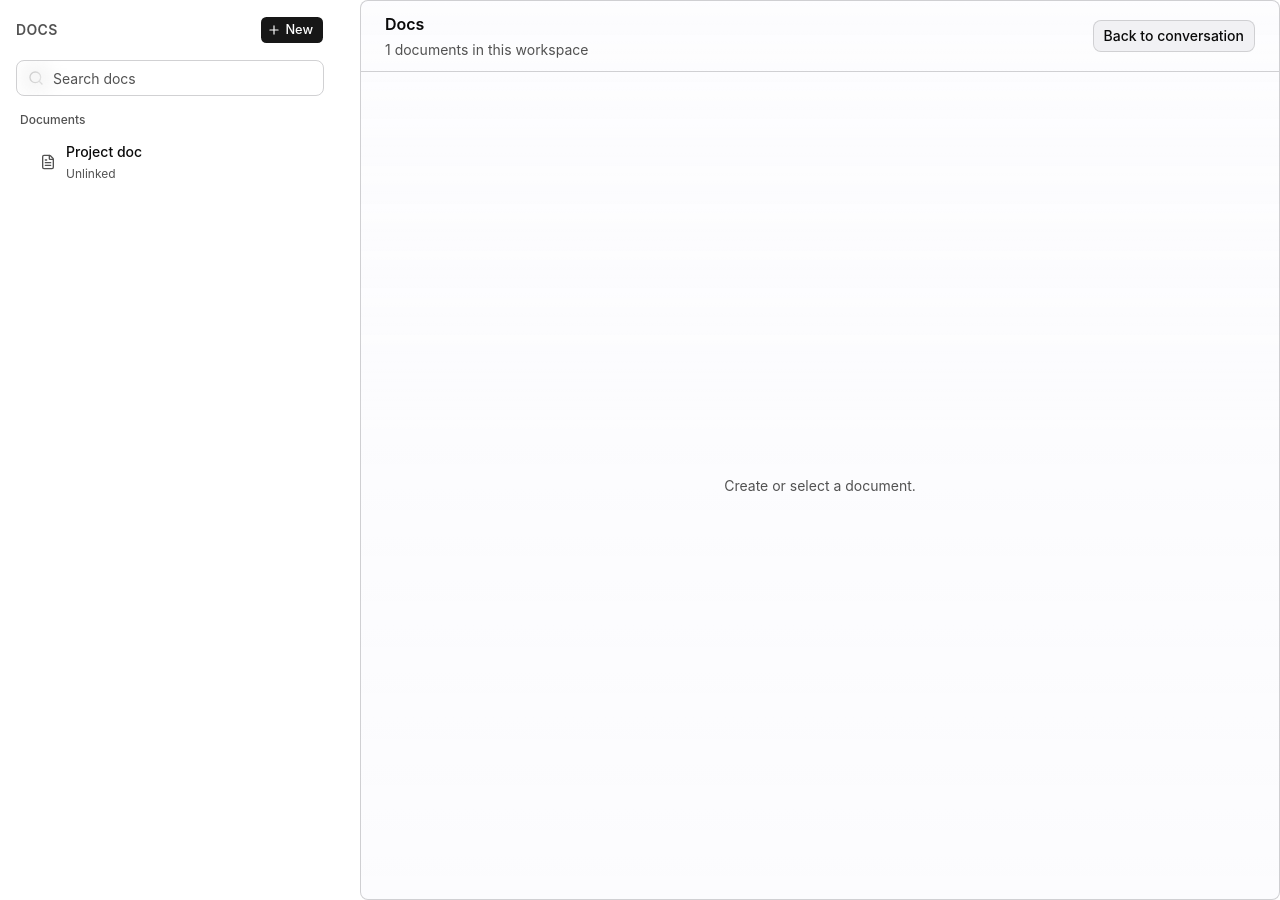
Test: workspace resources UI › autosaves Markdown document drafts after typing pauses
Click the button "Project doc Unlinked": (104, 152) x1=16 y1=134 x2=324 y2=190
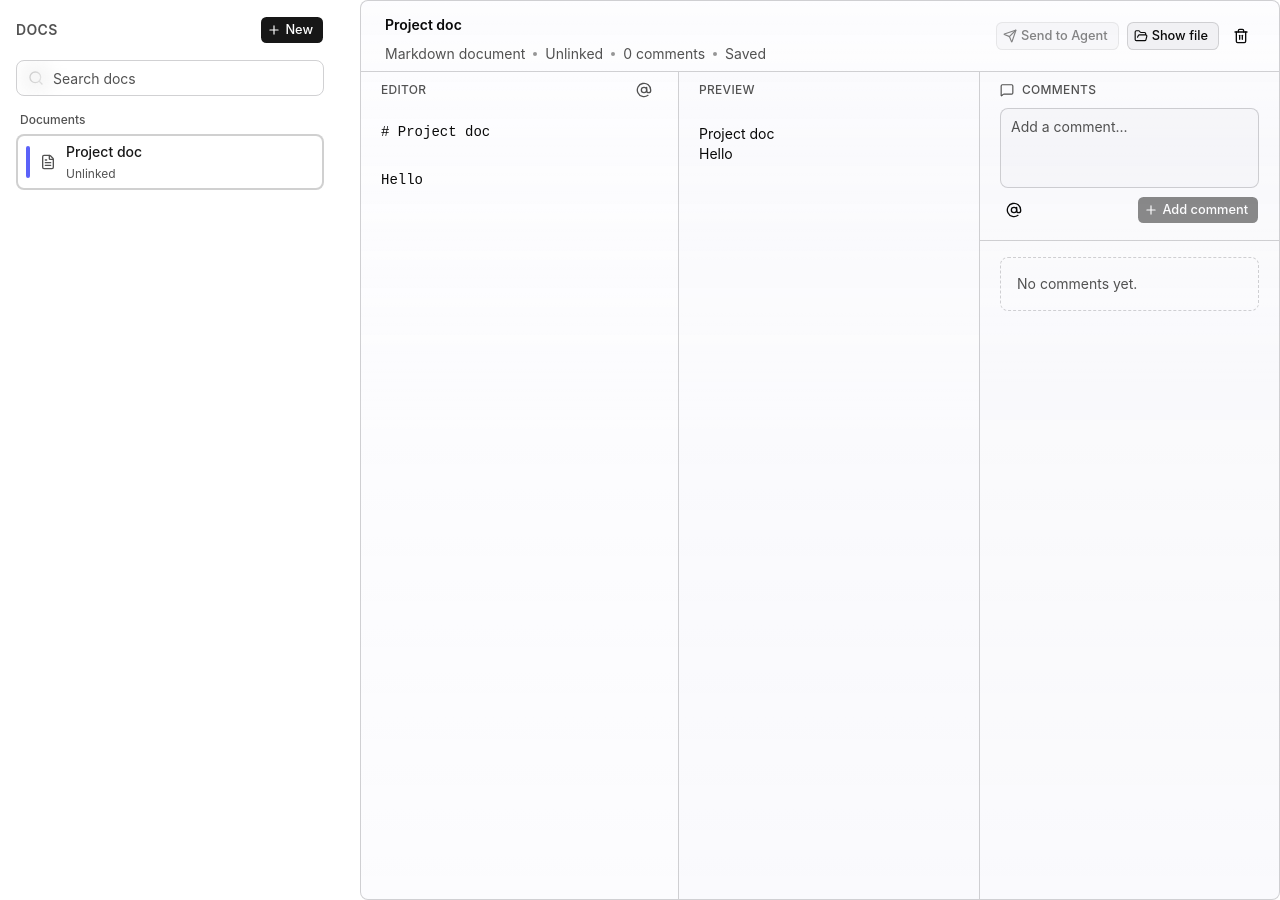
Replace the text in the field named "Document title" with "Autosaved doc": (682, 24) x1=385 y1=8 x2=980 y2=40
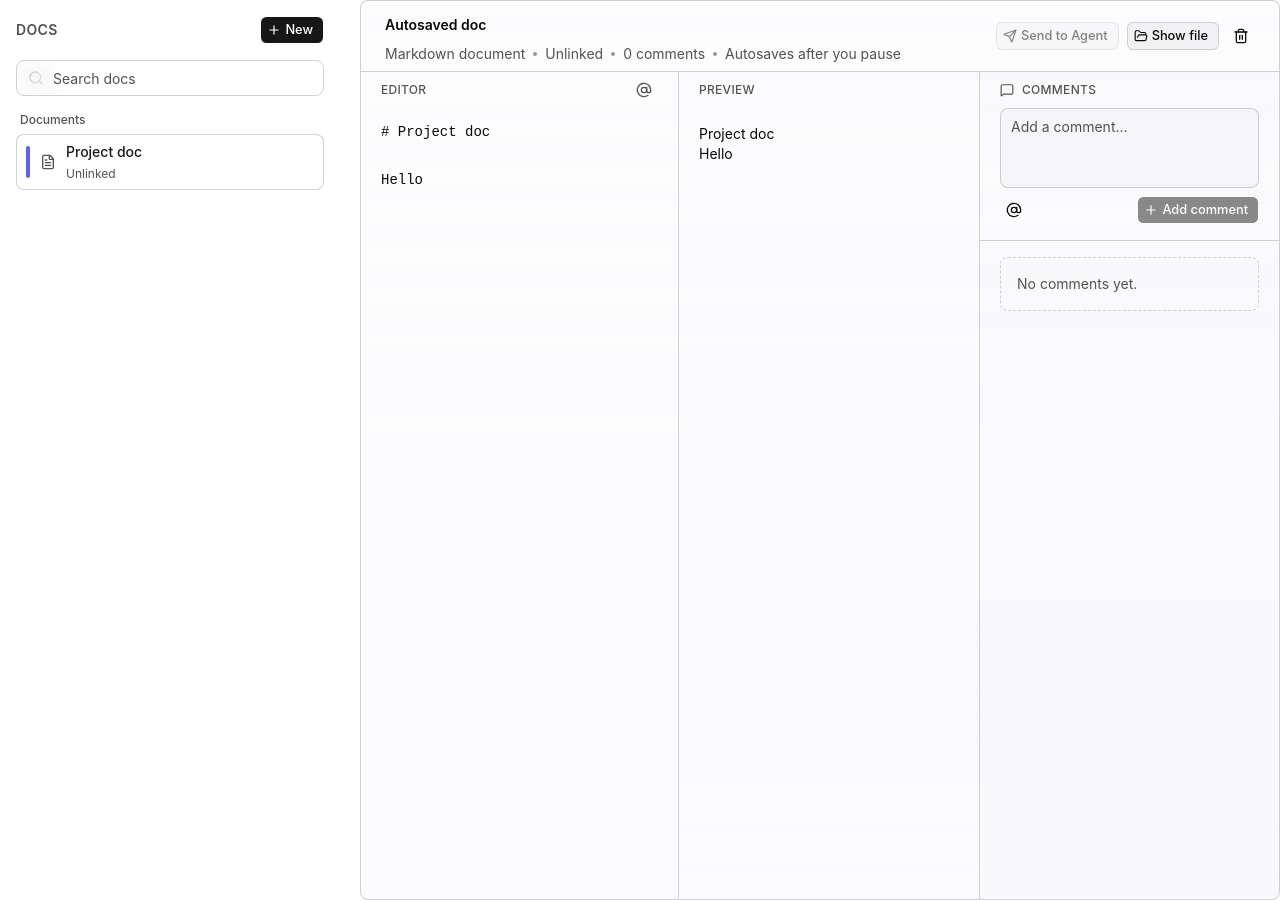
Replace the text in the text box named "Document markdown" with "# Autosaved doc": (520, 504) x1=361 y1=108 x2=678 y2=899
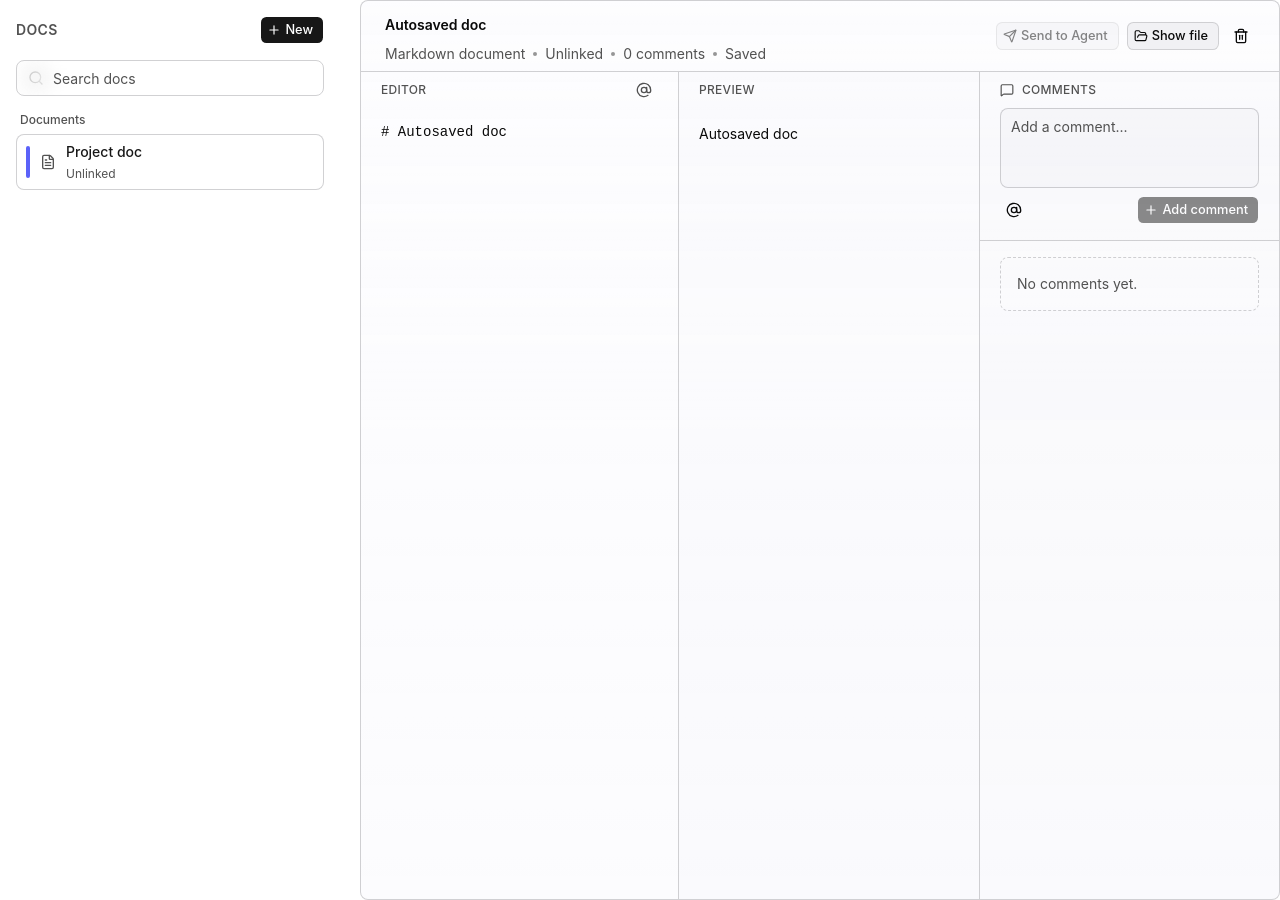
Check: the text "Saved" is shown, box x1=725 y1=44 x2=766 y2=64
